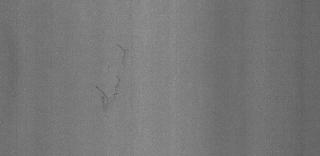water spot: (91, 41, 131, 116)
